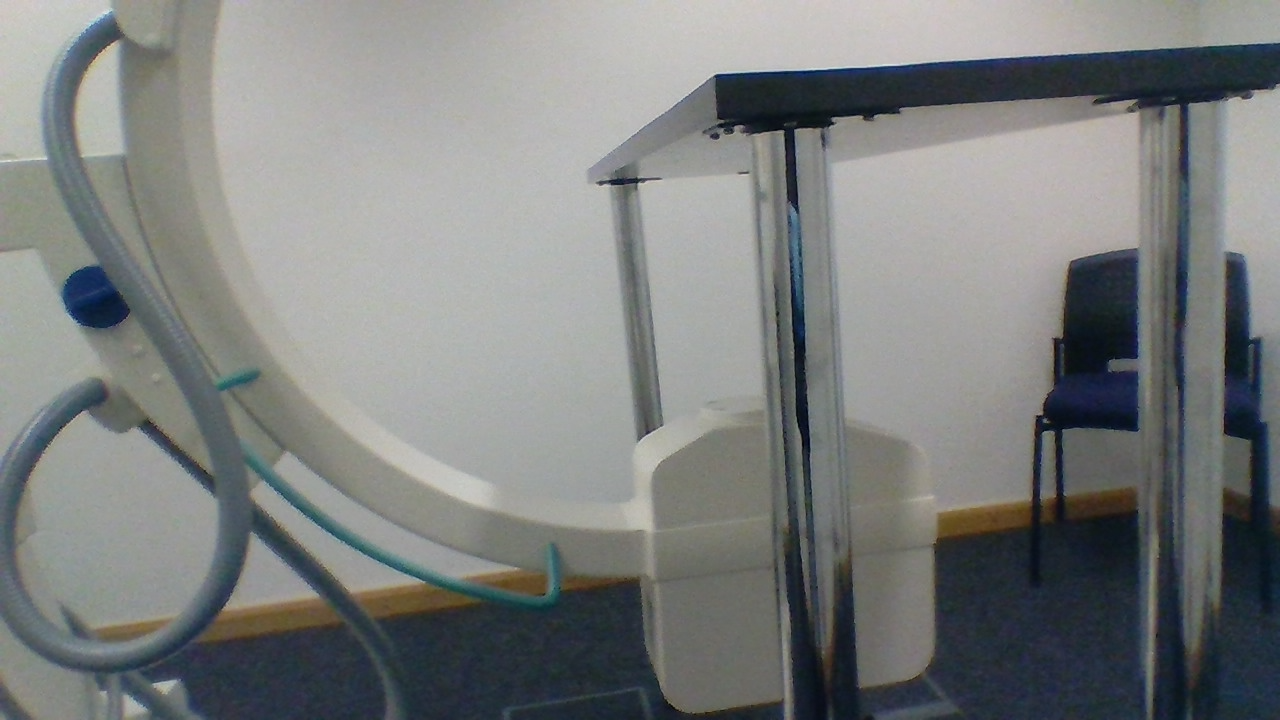carmDOWN: (632, 397, 931, 532)
carmLOCK: (59, 263, 138, 325)
